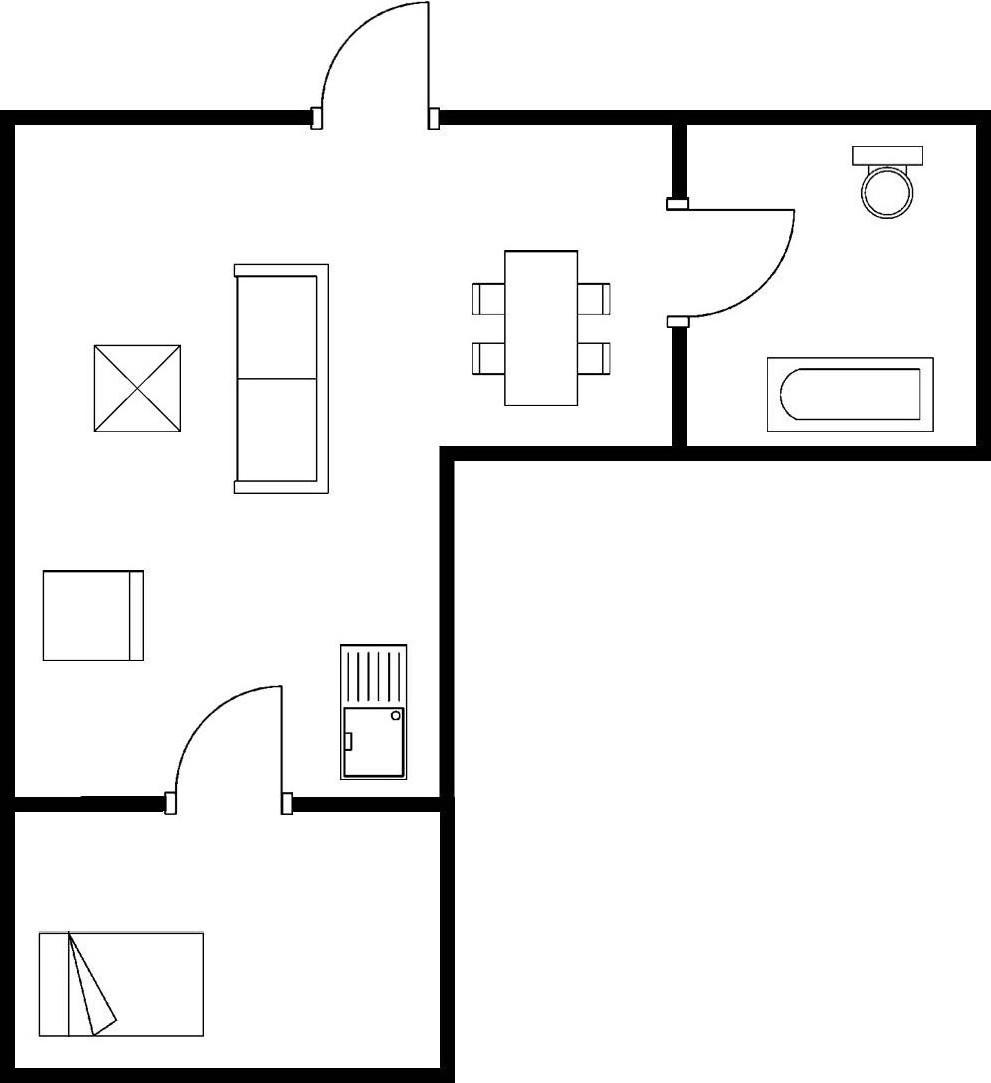bed: (29, 925, 211, 1046)
dining_table: (465, 242, 616, 413)
sink: (333, 636, 413, 785)
sofa: (225, 256, 339, 500)
toilet: (842, 138, 928, 223)
tub: (755, 348, 941, 440)
